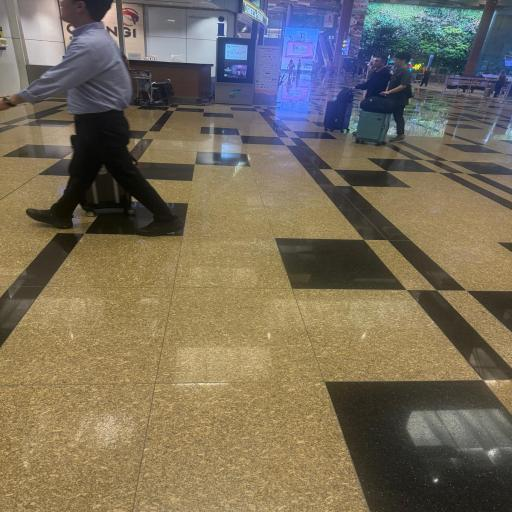person_left: (352, 52, 416, 147), (323, 56, 392, 134)
person_with_luggage_left: (0, 0, 185, 237)
